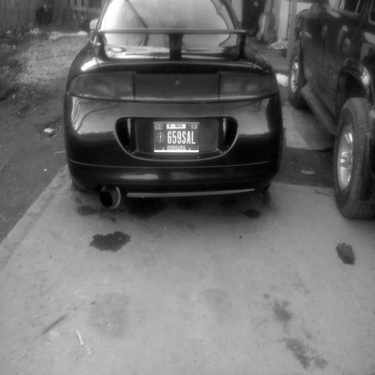car: (57, 1, 283, 214), (279, 1, 371, 232)
